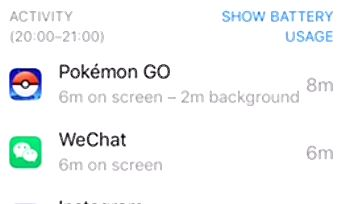activity: (7, 7, 121, 45)
app: (3, 57, 340, 113), (4, 125, 340, 176)
